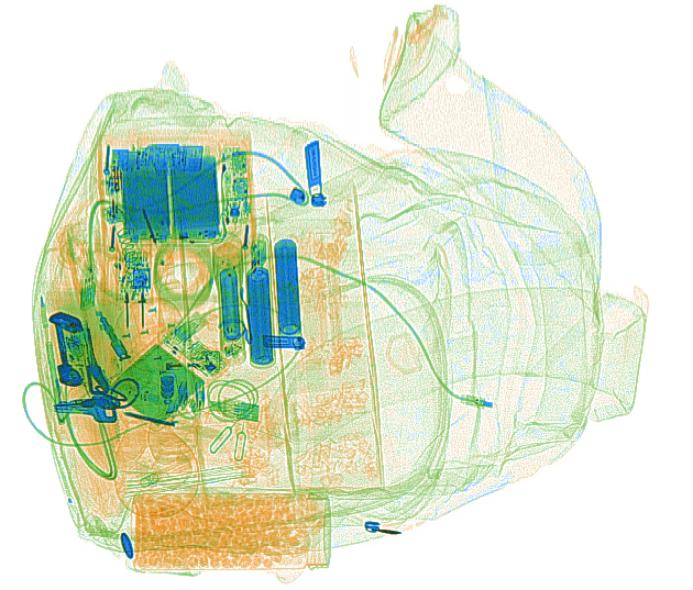battery: (242, 234, 275, 367), (271, 234, 303, 339), (216, 265, 244, 342)
lighter: (118, 343, 219, 373)
